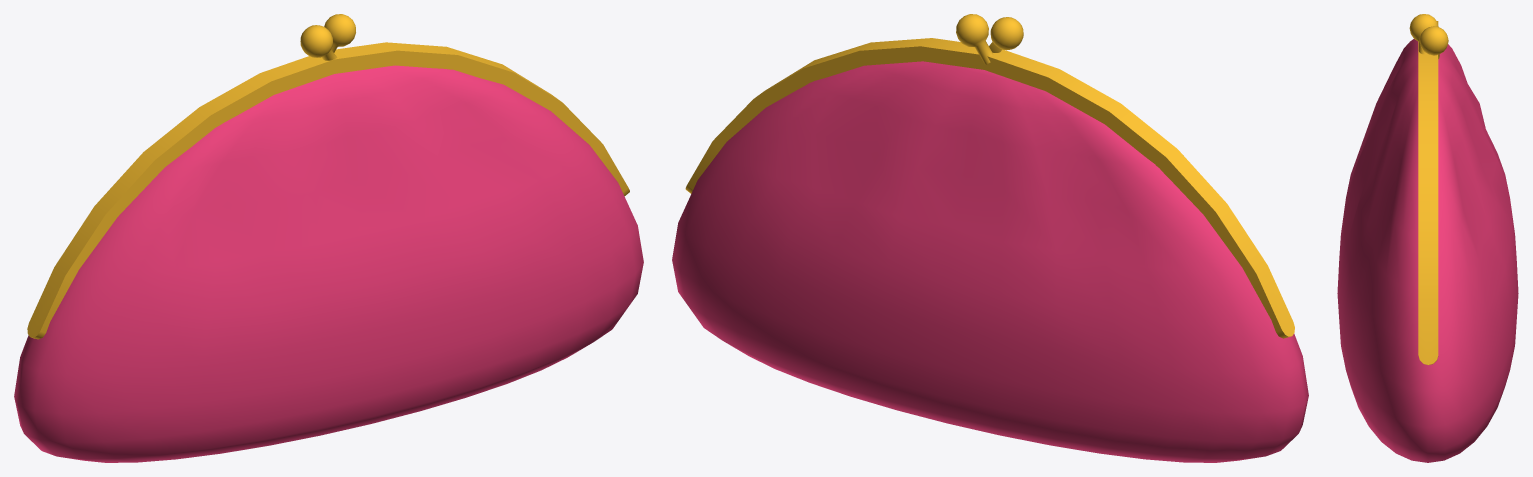
File: purse.fbx
The picture shows the model from 3 angles, left to right: view 1: azimuth 30°, elevation 25°; view 2: azimuth 150°, elevation 25°; view 3: azimuth 270°, elevation 25°; orthographic projection. The views are drawn at different scales.
Visible parts, largest first — view 1: Sphere.356; view 2: Sphere.356; view 3: Sphere.356.
Boxes of the visible parts, left/top/right/bottom form: Sphere.356: left=14, top=14, right=643, bottom=462; Sphere.356: left=672, top=14, right=1308, bottom=462; Sphere.356: left=1337, top=14, right=1518, bottom=462.
Size of the model in its own units: 218 by 126 by 62.14.
Materials: 1 (1 with a texture image).
